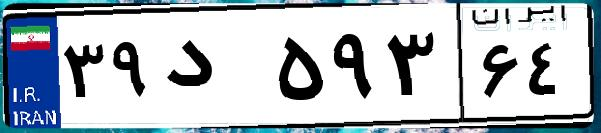3: (385, 28, 445, 110), (57, 26, 110, 100)
4: (525, 38, 570, 115)
5: (270, 28, 330, 110)
6: (475, 38, 525, 113)
9: (330, 28, 385, 110), (110, 28, 158, 98)
د: (158, 20, 270, 120)
